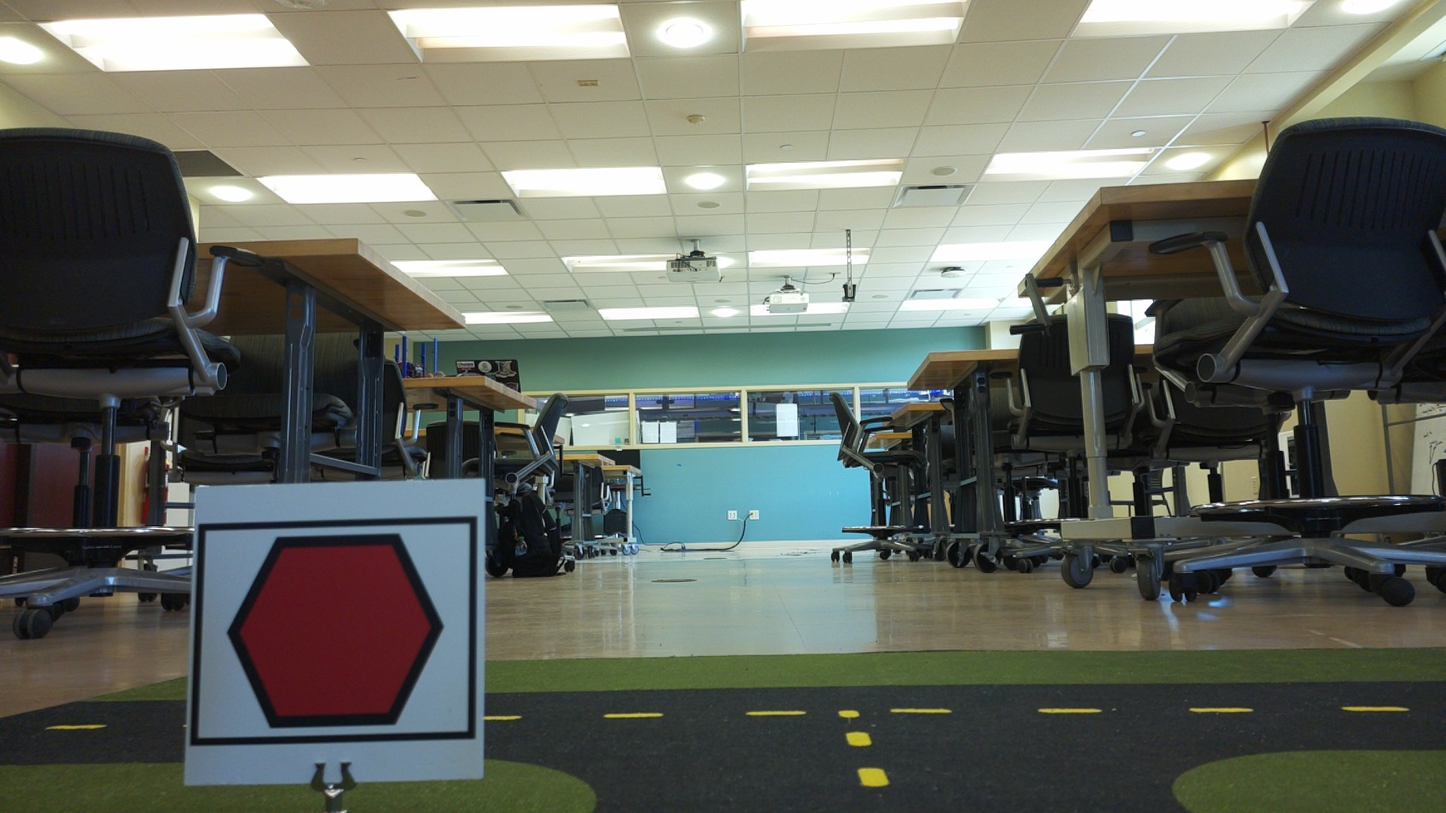stop: (211, 528, 457, 733)
yellowline: (840, 708, 889, 790)
